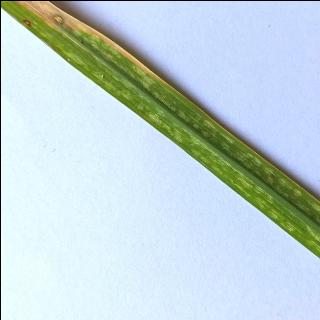Blast: (16, 13, 36, 35), (50, 10, 64, 28)
